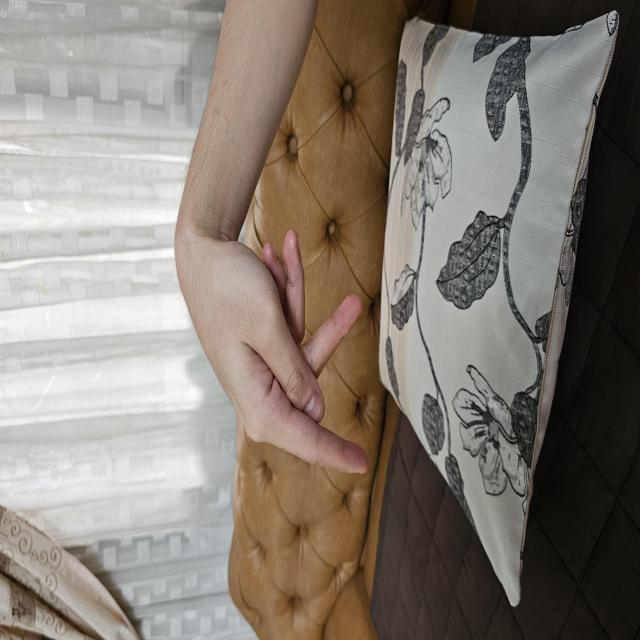P: (157, 179, 403, 508)
